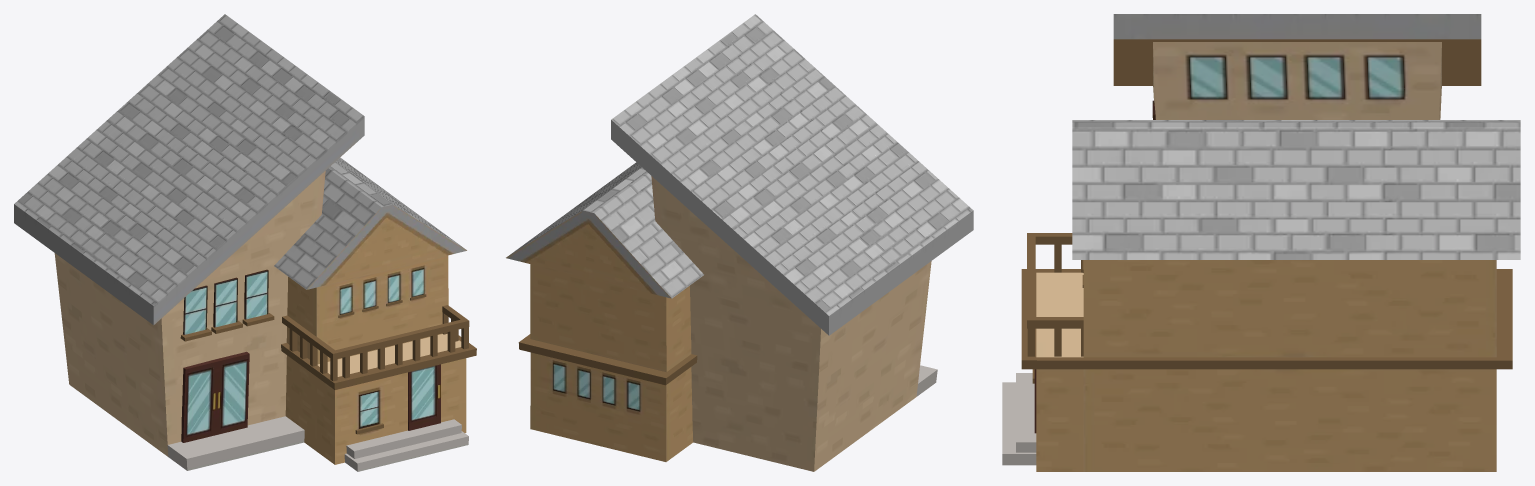
The model's file is city_residential_02.glb.
3 views of the same model, side by side, from view 1: azimuth 30°, elevation 25°; view 2: azimuth 150°, elevation 25°; view 3: azimuth 270°, elevation 25° (orthographic). The views are drawn at different scales.
Parts seen in each view (by area): view 1: polySurface709; view 2: polySurface709; view 3: polySurface709.
Part boxes in pixels (<box>): polySurface709: <box>14,14,476,471</box>; polySurface709: <box>506,14,973,471</box>; polySurface709: <box>1002,14,1520,471</box>.
Size of the model in its own units: 8.5 by 8.52 by 9.73.
1 material, 1 textured.
